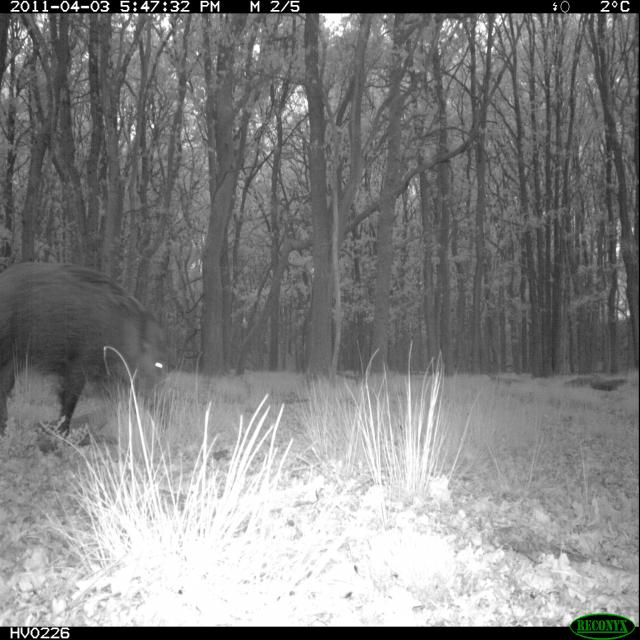boar: (0, 231, 182, 456)
